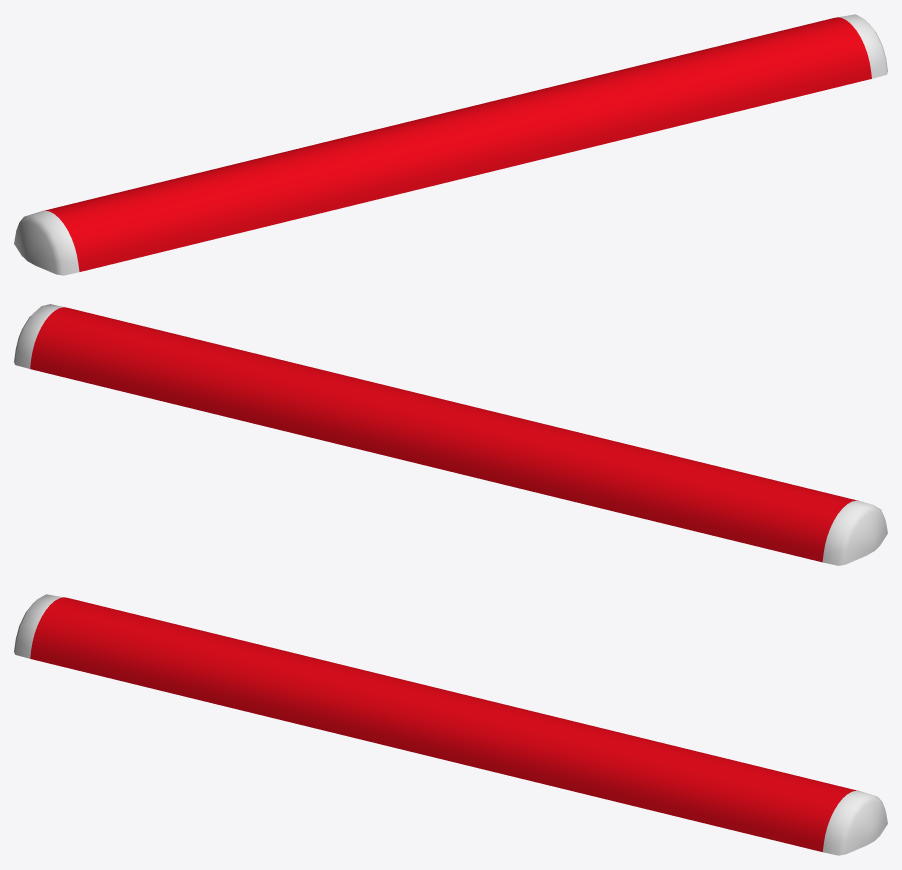
Rendered from Note_Full.fbx.
3 views of the same model, one above another, from view 1: azimuth 30°, elevation 25°; view 2: azimuth 150°, elevation 25°; view 3: azimuth 330°, elevation 25° (orthographic).
Visible parts, largest first — view 1: Full; view 2: Full; view 3: Full.
Boxes of the visible parts, box(x1,y1,x2,y2) form: Full: box(14, 14, 887, 275); Full: box(14, 304, 887, 565); Full: box(14, 594, 887, 855).
Bounding box in the file's own units: 993 × 45 × 100.
